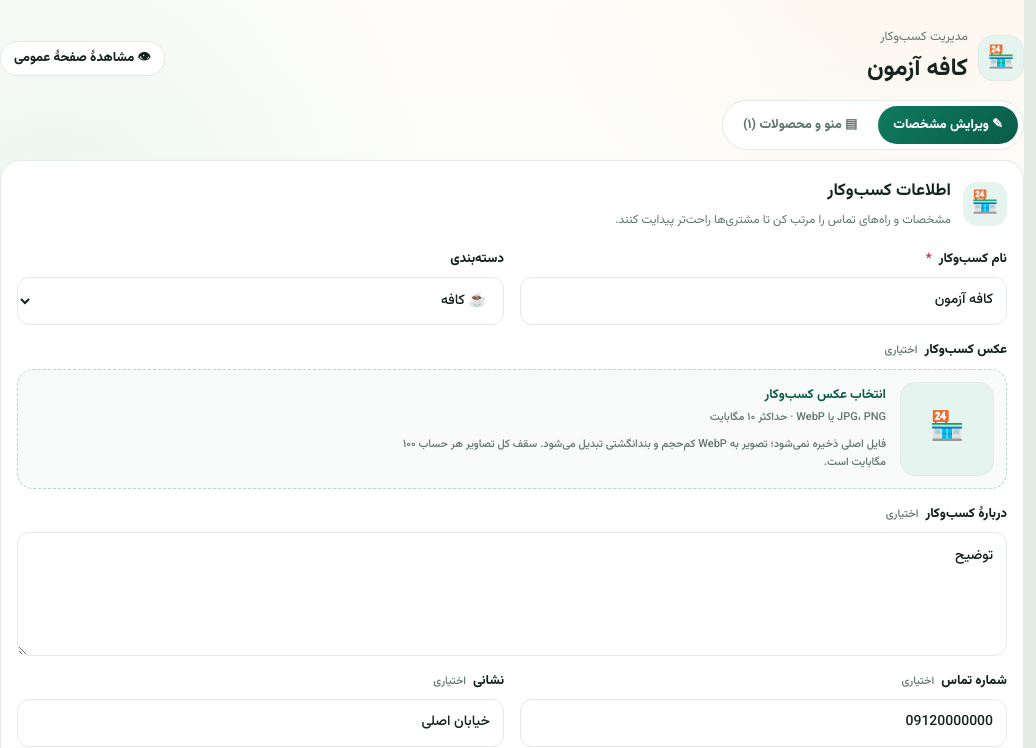
Scenario: BusinessManage (ویرایش + منو و محصولات) › loads the owned business and saves edited profile fields
Replace the text in the field with test id "biz-name" with "کافه تازه" at (764, 301), box [520,278,1007,325]
(page scrolled)
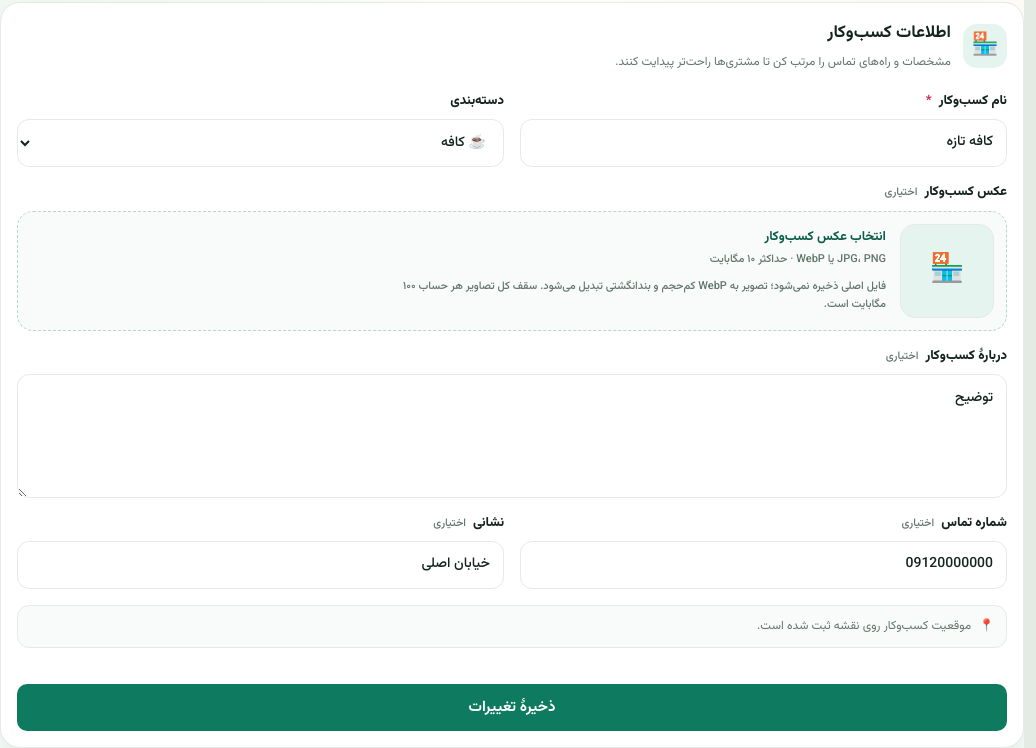
Click the button with test id "biz-save" at (512, 707), box [17,684,1007,731]
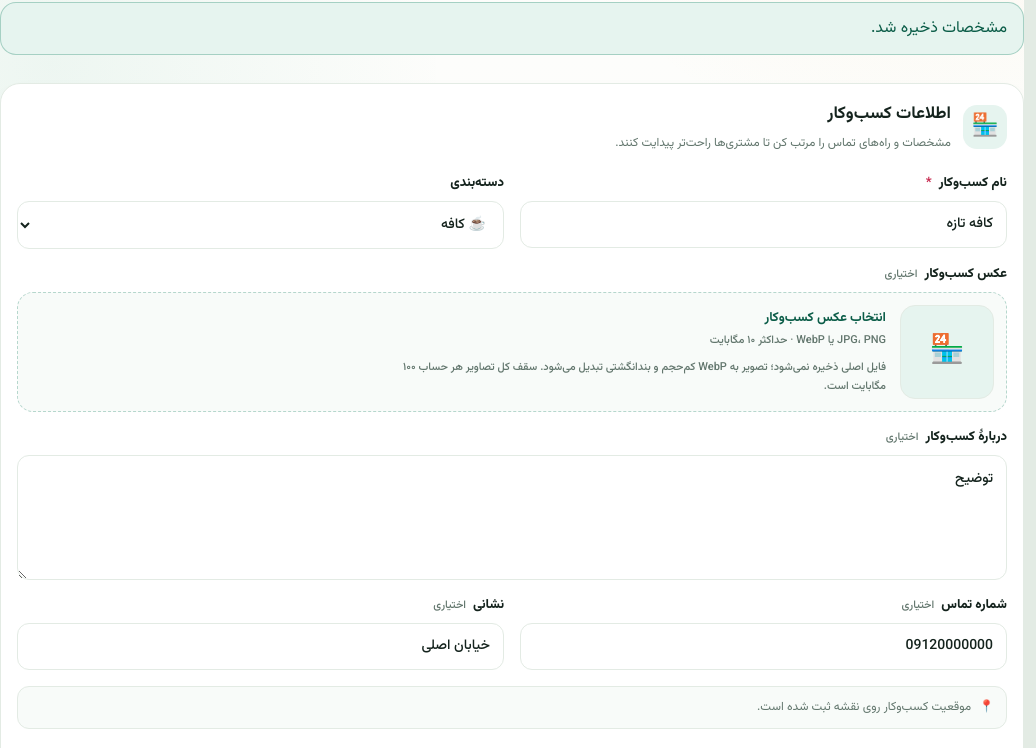
Result: the message with test id "biz-notice" shows "ذخیره شد" at [871,16,1007,41]
